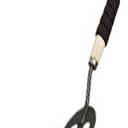Fork: (64, 1, 114, 128)
